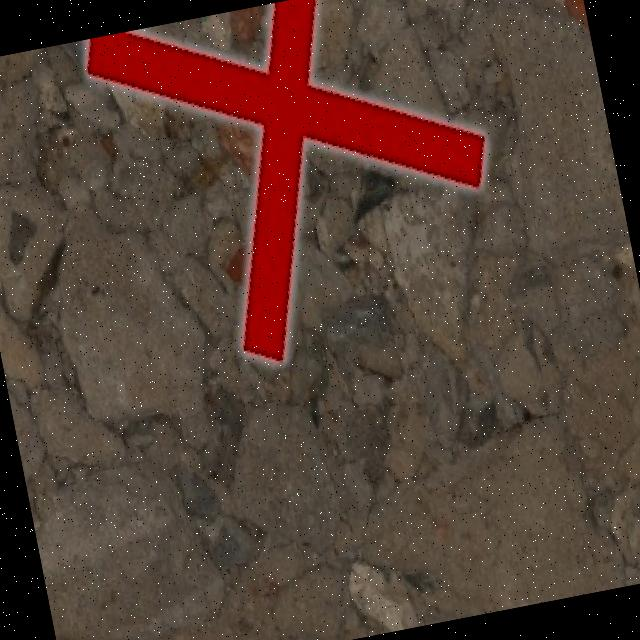x_marker: (81, 0, 517, 386)
